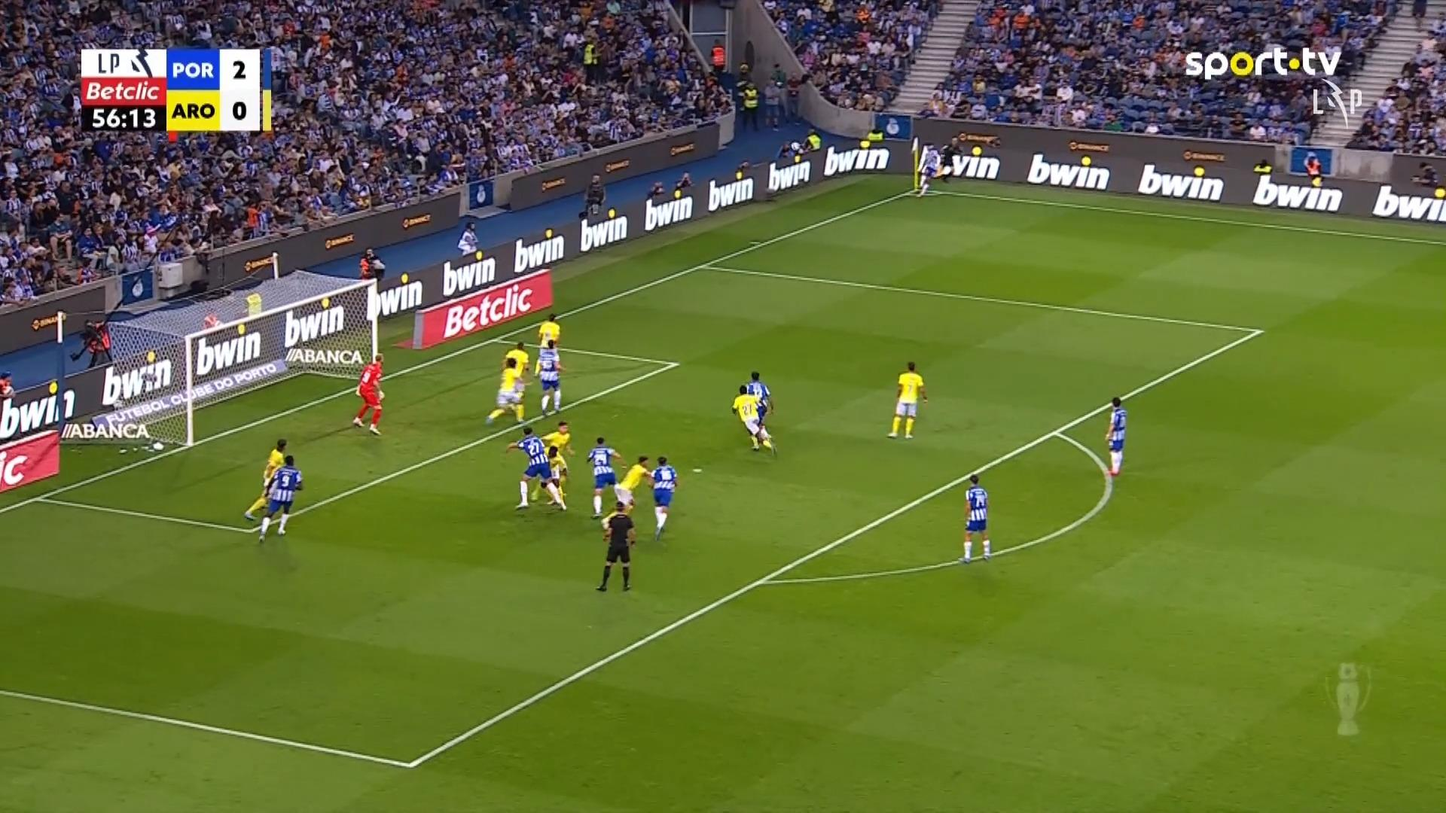goalkeeper: (352, 352, 386, 435)
player: (505, 425, 564, 510), (257, 454, 304, 542), (243, 437, 288, 521), (485, 344, 529, 425), (535, 420, 576, 504), (886, 360, 928, 439), (585, 436, 624, 519), (731, 384, 776, 455), (958, 473, 991, 563), (533, 337, 564, 416), (649, 455, 678, 539), (613, 454, 652, 513), (744, 370, 773, 440), (1104, 396, 1127, 476), (915, 142, 941, 196), (504, 340, 529, 379), (536, 312, 560, 351)
referee: (595, 500, 636, 592), (938, 136, 961, 183)
